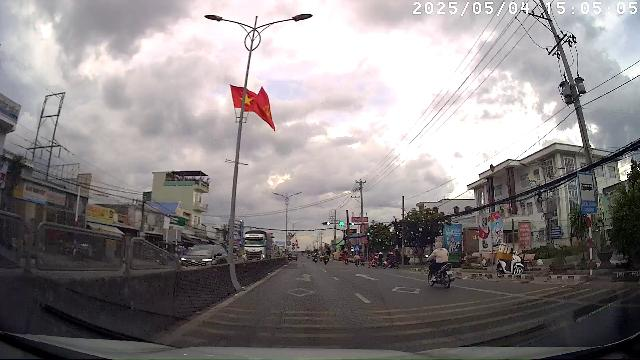423a-duong-nguoi-di-bo-sang-ngang-1: (354, 244, 360, 250)
